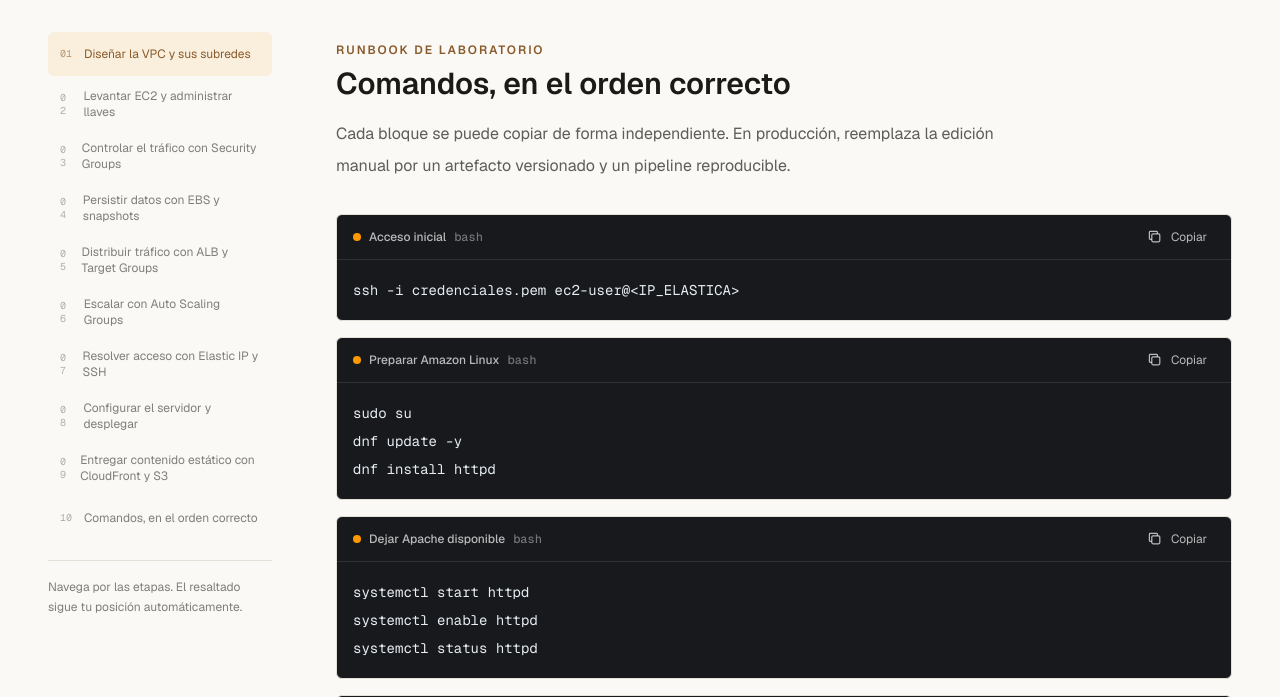
Test case: AWSArchitectureGuide › copies a bash snippet and announces success
The width and height of the screenshot is (1280, 697).
(page scrolled)
What coordinates should you click on to do the following:
click the button with aria-label "copiar comando de preparar"
I would click on:
 (1177, 360)
Its box is [1139,338,1215,382].
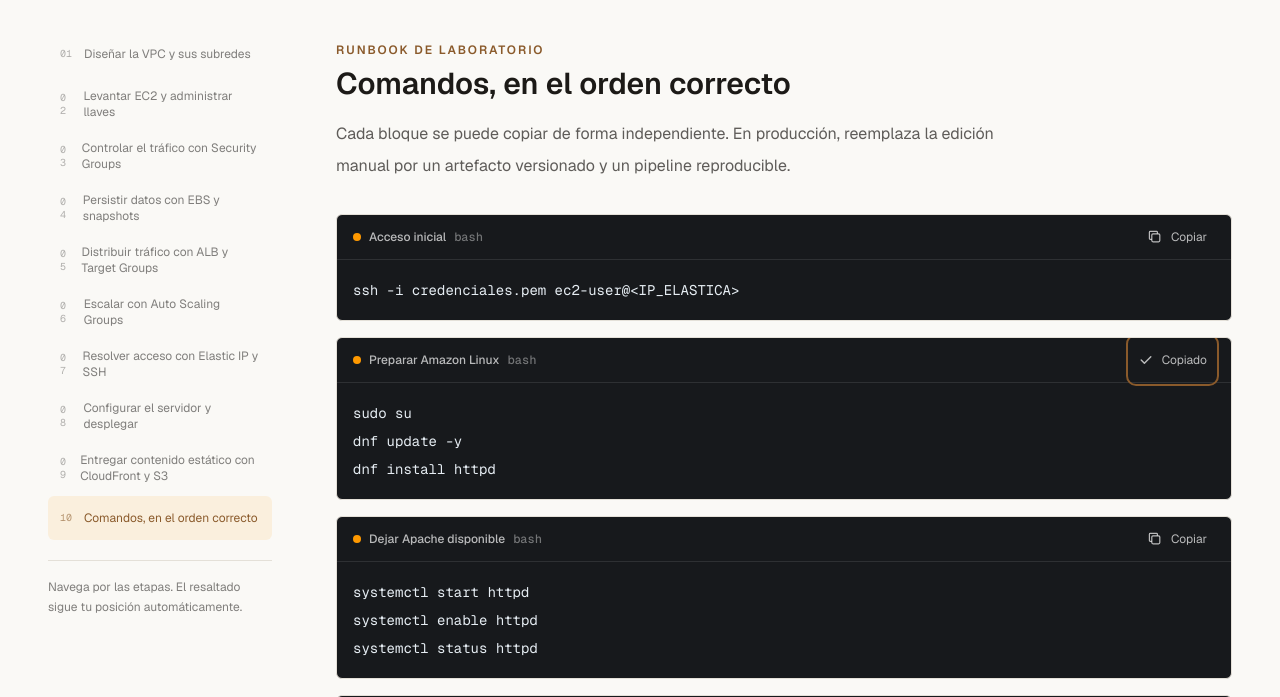
Check: the text "Copiado" is shown, box [1162,352,1207,368]
